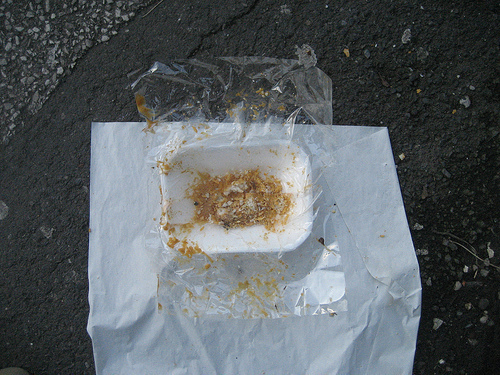litter: (91, 59, 419, 373)
